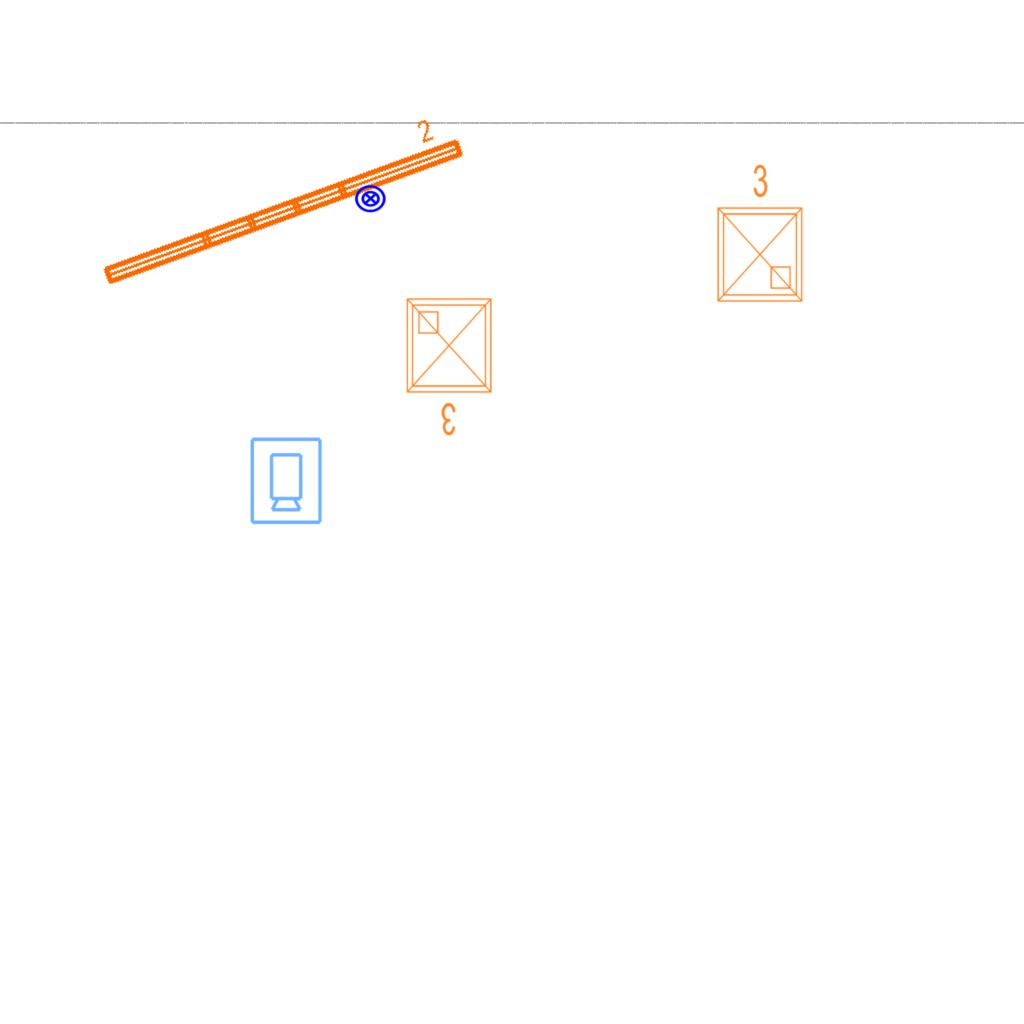Ambulanz_Pendelleuchte_LED: (87, 107, 470, 293)
Einbaudownlights_LED_Konferenzraeume: (399, 291, 503, 441), (706, 159, 810, 309)
KFO_Kamera_mit_Festobjektiv: (247, 435, 324, 526)
Taster_beleuchtet: (354, 182, 387, 215)
